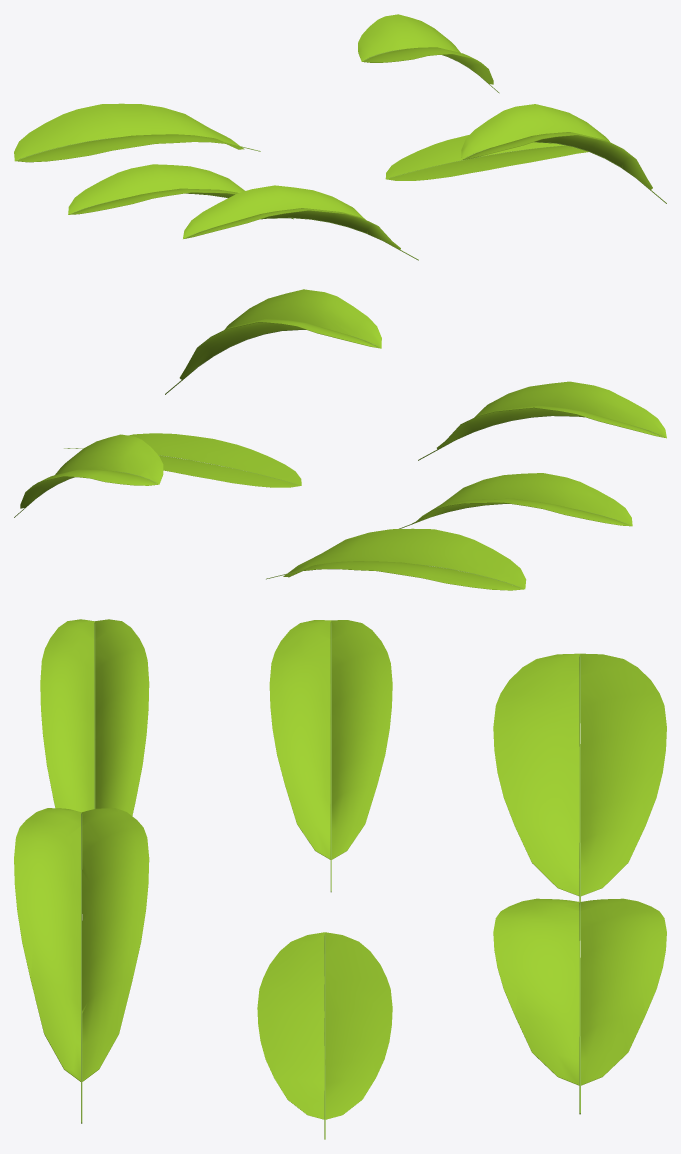
File: leaves.glb
3 views of the same model, one above another, from view 1: azimuth 30°, elevation 25°; view 2: azimuth 150°, elevation 25°; view 3: azimuth 270°, elevation 25° (orthographic). The views are drawn at different scales.
Visible parts, largest first — view 1: Material2 (×2); view 2: Material2 (×2); view 3: Material2 (×2).
Boxes of the visible parts, x1,y1,x2,y2 form: Material2 (×2): (14, 14, 666, 260); Material2 (×2): (14, 289, 666, 590); Material2 (×2): (14, 619, 666, 1139).
Size of the model in its own units: 1.75e+08 by 3.53e+07 by 1.14e+08.
